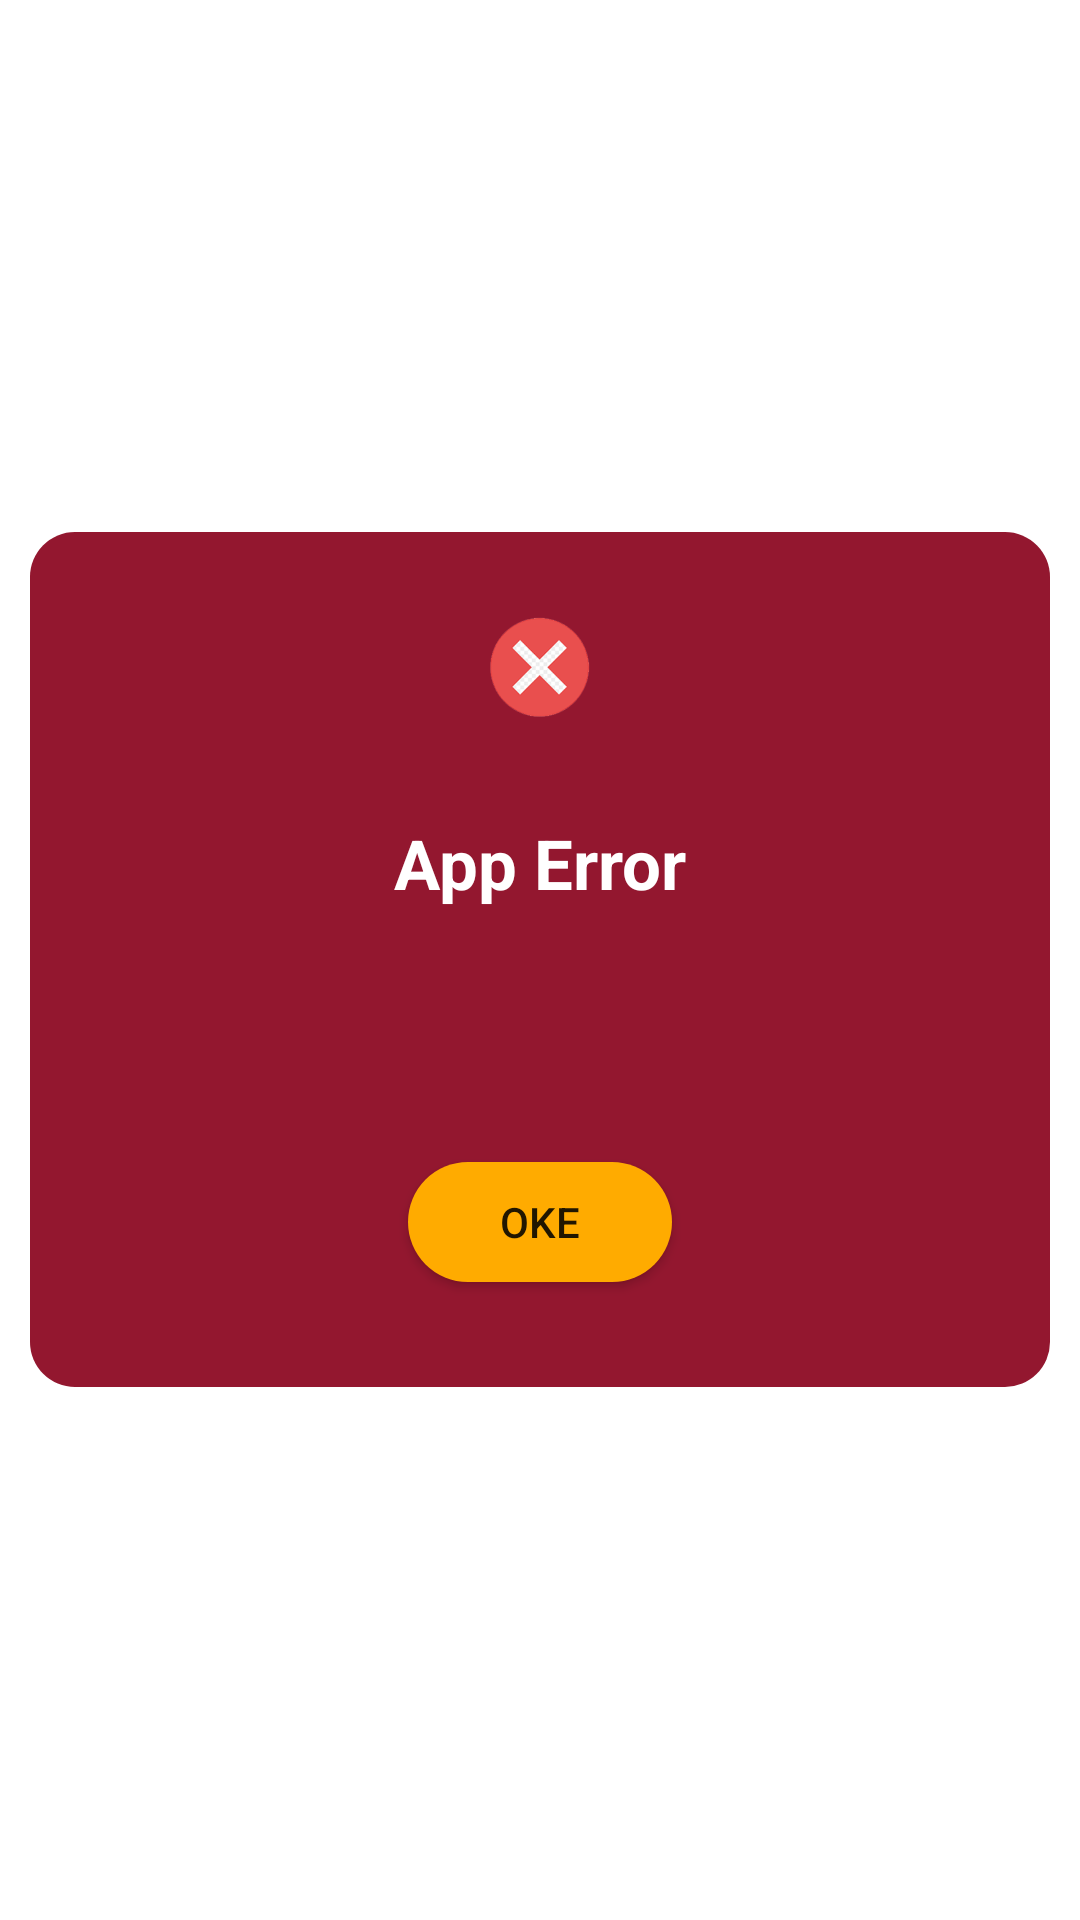

Named icons in this screenshot (1080px×1920px) and their centers, (x,y):
gagal: (539,667)
